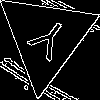Y: (21, 13, 72, 70)
